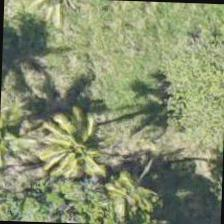Kelapa_Sawit: (28, 95, 122, 188), (85, 145, 180, 223)
